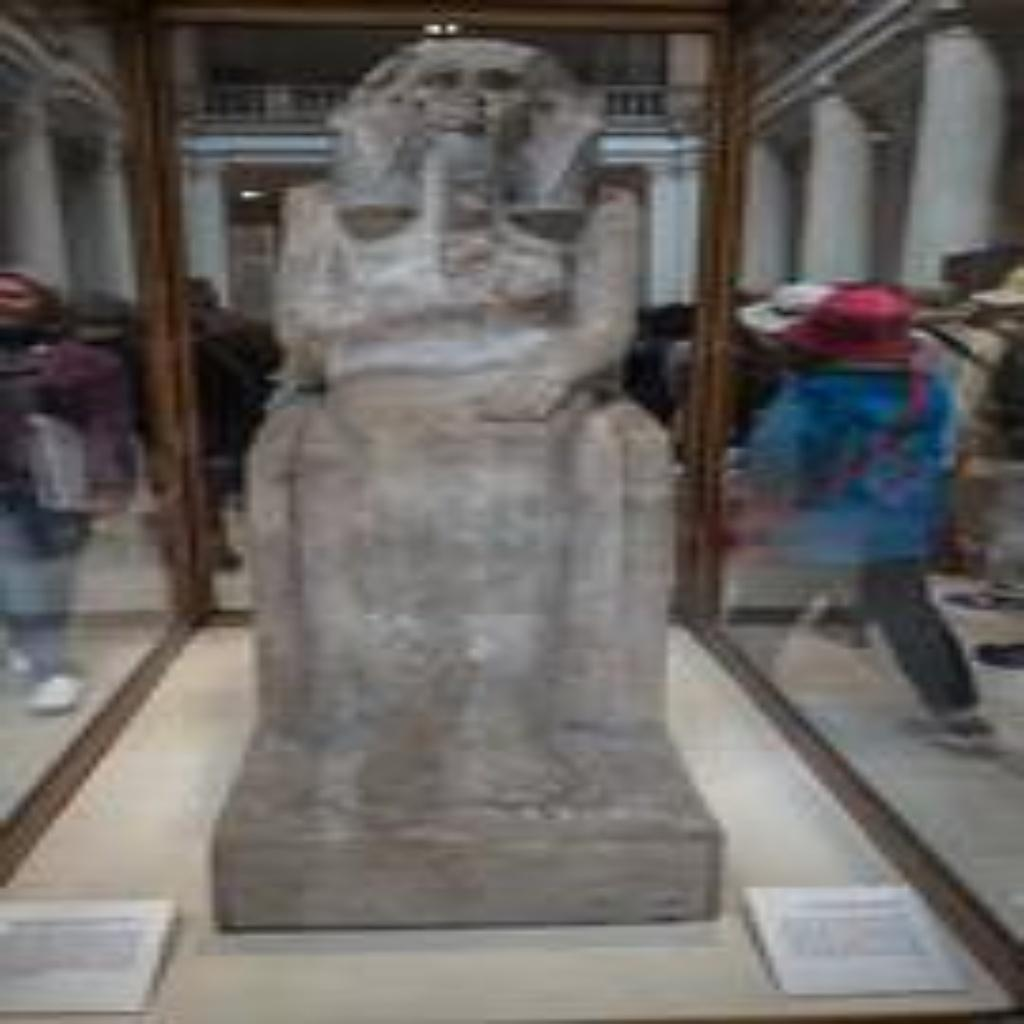Statue of King Zoser: (197, 26, 728, 930)
